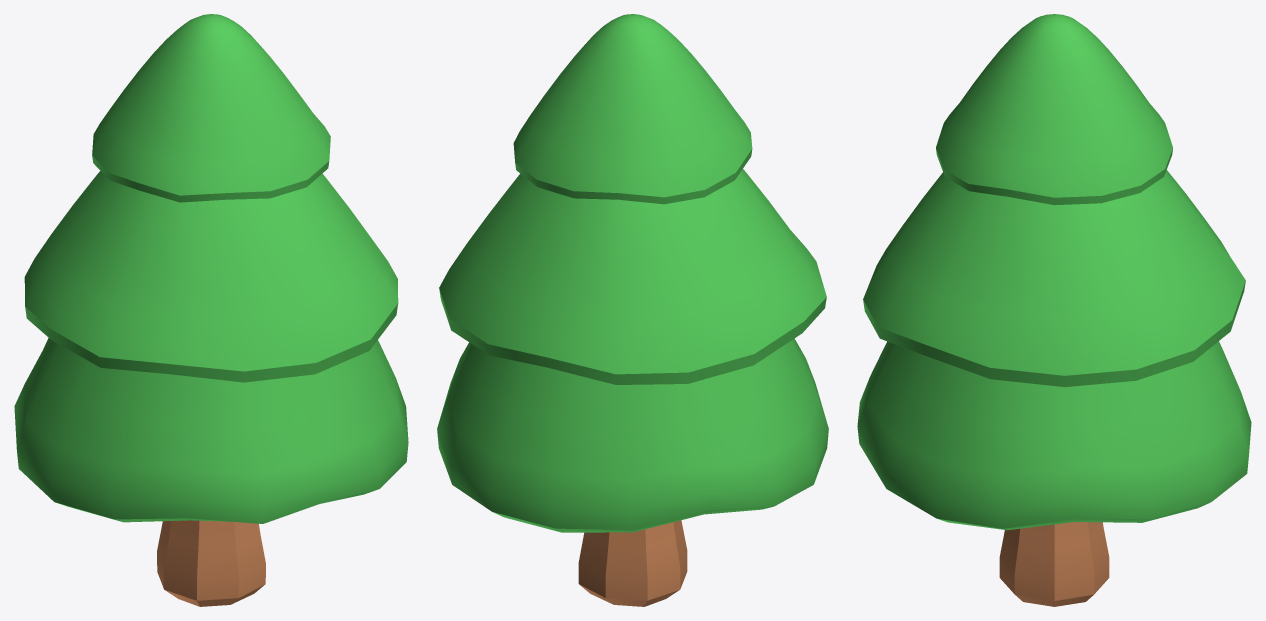
Rendered from tree.fbx.
3 renders of one model, left to right at view 1: azimuth 30°, elevation 25°; view 2: azimuth 150°, elevation 25°; view 3: azimuth 270°, elevation 25°, orthographic.
Parts seen in each view (by area): view 1: Cube.006; view 2: Cube.006; view 3: Cube.006.
Part boxes in pixels (left/top/right/bottom): Cube.006: left=14, top=14, right=408, bottom=606; Cube.006: left=437, top=14, right=828, bottom=606; Cube.006: left=857, top=14, right=1251, bottom=606.
Size of the model in its own units: 0.7341 by 1.19 by 0.7341.
